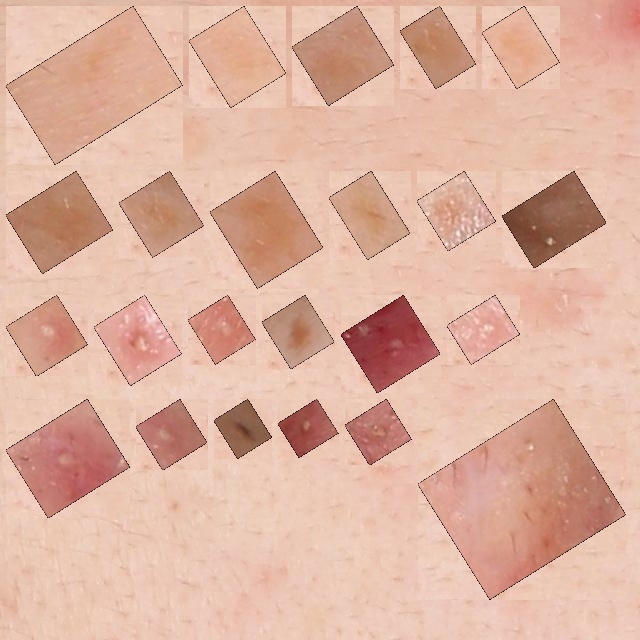hypertrophic_scar: (429, 410, 615, 588), (513, 182, 595, 257)
melasma: (17, 17, 171, 153), (221, 182, 312, 277), (17, 182, 102, 262), (303, 17, 383, 94), (200, 17, 275, 96), (130, 182, 193, 246), (340, 182, 399, 248), (428, 182, 485, 240), (493, 17, 548, 77), (411, 17, 465, 78), (273, 306, 323, 358)
nevus: (225, 410, 261, 447)
pustule: (17, 410, 119, 507), (352, 306, 429, 382), (105, 306, 170, 374), (17, 306, 77, 365), (147, 410, 196, 459), (458, 306, 509, 353), (199, 306, 244, 353), (356, 410, 400, 454), (289, 410, 327, 446)
